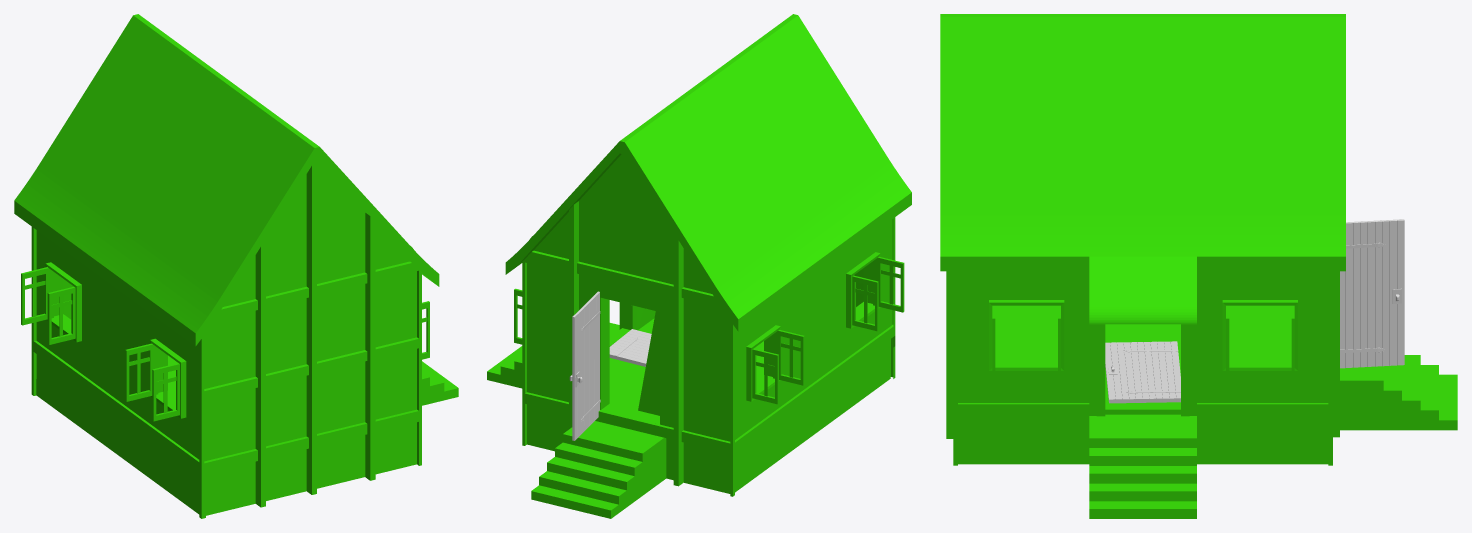
Rendered from cornerhouse.fbx.
3 views of the same model, side by side, from view 1: azimuth 30°, elevation 25°; view 2: azimuth 150°, elevation 25°; view 3: azimuth 270°, elevation 25° (orthographic). The views are drawn at different scales.
Parts seen in each view (by area): view 1: Roof, House, Woods, Concrete, Windows, Stairs; view 2: Roof, House, Woods, Concrete, Stairs.001, Windows, Doors.001, Doors, Stairs; view 3: Roof, House, Concrete, Woods, Stairs, Doors.001, Stairs.001, Doors, Windows.
Boxes of the visible parts, x1,y1,x2,y2 form: Roof: (14, 14, 439, 346); House: (31, 147, 418, 465); Woods: (31, 160, 421, 518); Concrete: (36, 354, 416, 515); Windows: (21, 262, 429, 421); Stairs: (422, 361, 458, 405); Roof: (505, 14, 911, 331); House: (525, 141, 890, 443); Woods: (522, 201, 895, 496); Concrete: (527, 339, 890, 493); Stairs.001: (531, 421, 666, 518); Windows: (514, 252, 904, 404); Doors.001: (569, 291, 600, 440); Doors: (609, 329, 651, 366); Stairs: (487, 323, 619, 388); Roof: (940, 14, 1345, 324); House: (958, 271, 1328, 404); Concrete: (958, 416, 1328, 464); Woods: (946, 271, 1339, 465); Stairs: (1089, 414, 1196, 518); Doors.001: (1340, 219, 1404, 368); Stairs.001: (1340, 355, 1457, 430); Doors: (1105, 341, 1180, 403); Windows: (989, 300, 1297, 380).
Size of the model in its own units: 1449 by 1394 by 1676.
